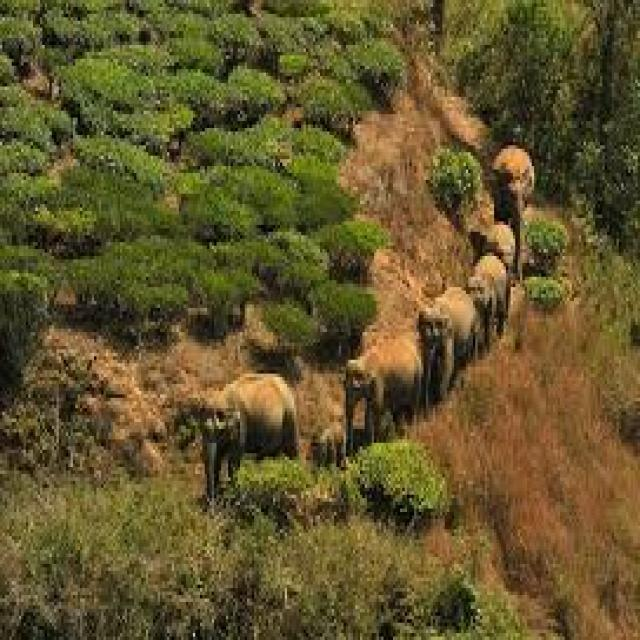Elephant: (198, 361, 304, 506), (338, 328, 426, 443), (418, 277, 481, 392), (486, 132, 546, 241), (464, 245, 516, 348), (313, 414, 351, 483)
